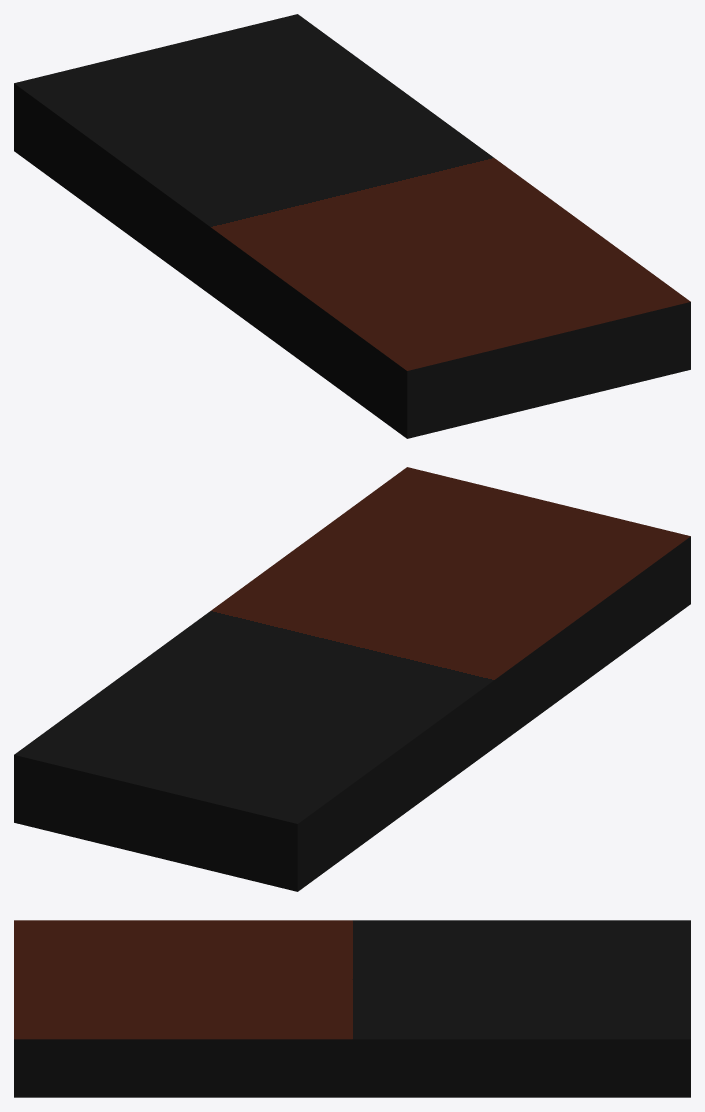
The model's file is 18_cash.glb.
3 renders of one model, top to bottom at view 1: azimuth 30°, elevation 25°; view 2: azimuth 150°, elevation 25°; view 3: azimuth 270°, elevation 25°, orthographic. The views are drawn at different scales.
Parts seen in each view (by area): view 1: items/18_cash; view 2: items/18_cash; view 3: items/18_cash.
Boxes of the visible parts, x1,y1,x2,y2 form: items/18_cash: (14, 14, 690, 438); items/18_cash: (14, 467, 690, 891); items/18_cash: (14, 920, 690, 1097).
Size of the model in its own units: 0.1025 by 0.0234 by 0.2461.
Materials: 1 (1 with a texture image).
